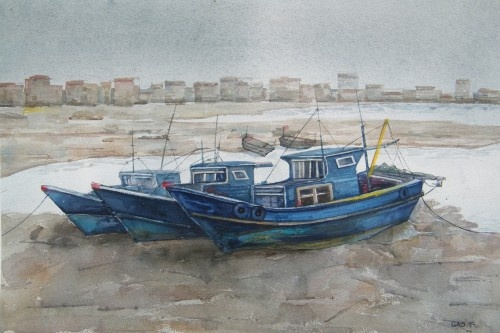otherboat: (162, 115, 434, 256), (93, 145, 277, 242), (29, 158, 187, 237)
